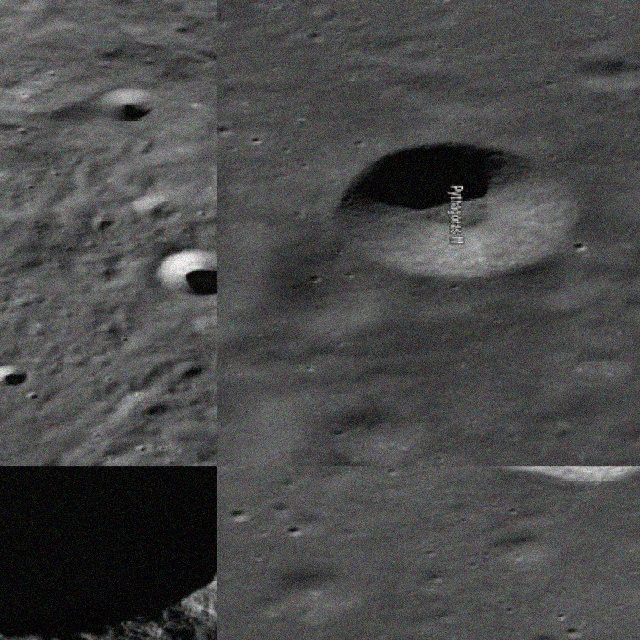crater: (0, 466, 215, 638), (340, 147, 574, 276), (154, 250, 215, 298), (101, 88, 154, 121), (0, 364, 28, 388)
